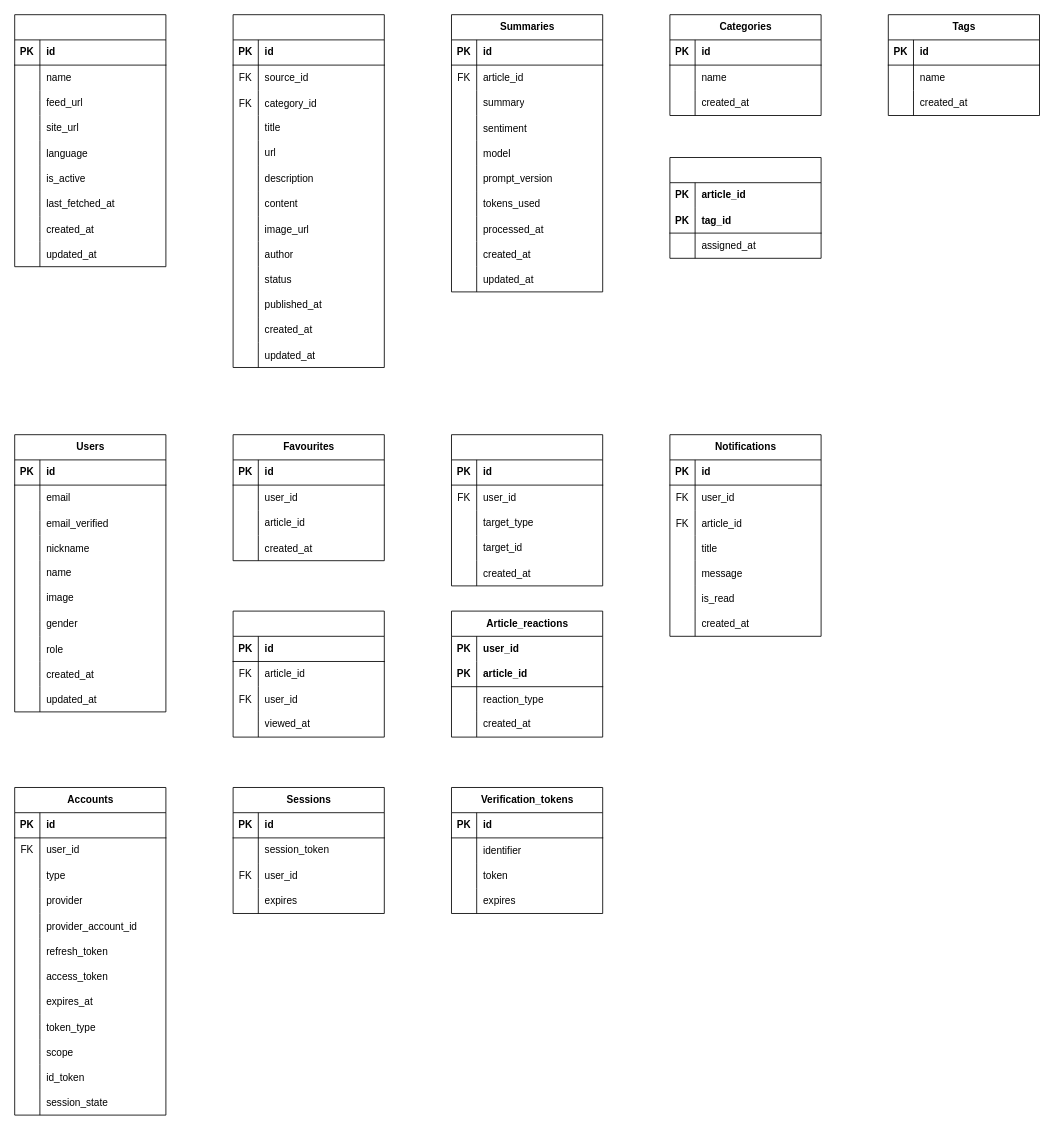
Image size: 1054x1130. Some labels were removed from this diagram. Here are the shapes that lost their labels. From the top down, the box of each, then its label:
(14, 14, 166, 267): Sources
(232, 14, 384, 368): Articles
(669, 157, 821, 258): Article_tags
(451, 434, 603, 586): Subscriptions
(232, 610, 384, 737): Article_views
